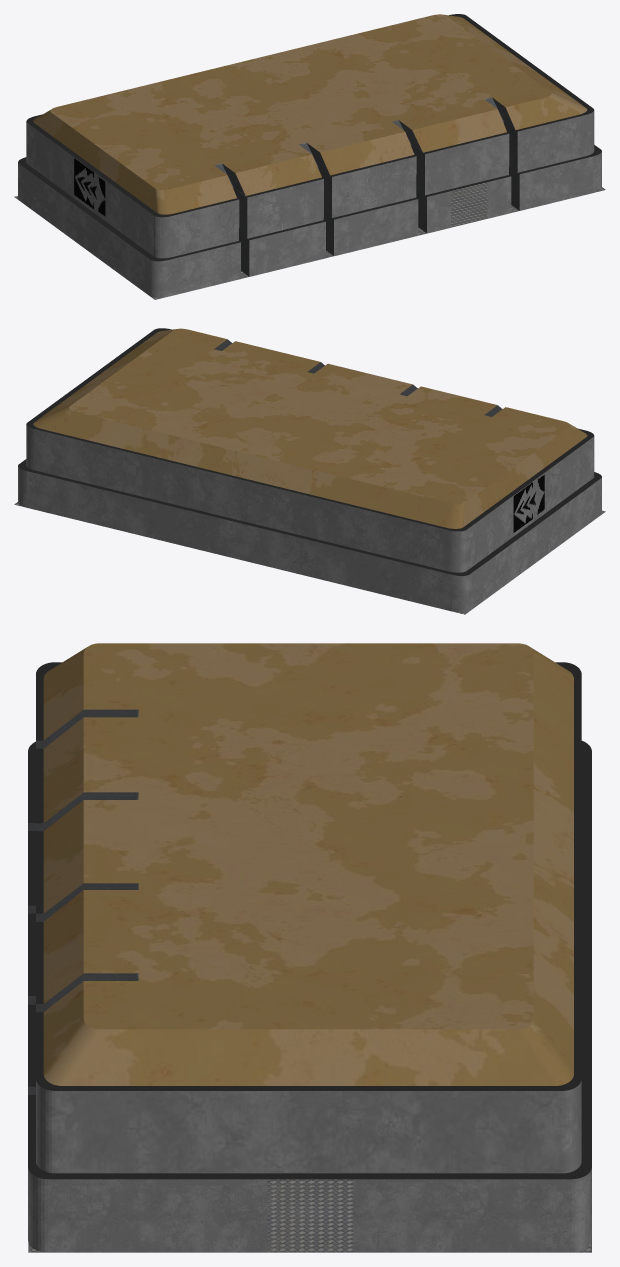
Rendered from pruebacolisiones.obj.
3 views of the same model, one above another, from view 1: azimuth 30°, elevation 25°; view 2: azimuth 150°, elevation 25°; view 3: azimuth 270°, elevation 25° (orthographic). The views are drawn at different scales.
Visible parts, largest first — view 1: SalaEntrenamiento_Entrenamiento_Cube.002; view 2: SalaEntrenamiento_Entrenamiento_Cube.002; view 3: SalaEntrenamiento_Entrenamiento_Cube.002.
Boxes of the visible parts, bbox=[...] form: SalaEntrenamiento_Entrenamiento_Cube.002: bbox=[14, 14, 605, 299]; SalaEntrenamiento_Entrenamiento_Cube.002: bbox=[14, 328, 605, 614]; SalaEntrenamiento_Entrenamiento_Cube.002: bbox=[28, 643, 591, 1252].
Bounding box in the file's own units: 74.53 × 14.78 × 40.35.
